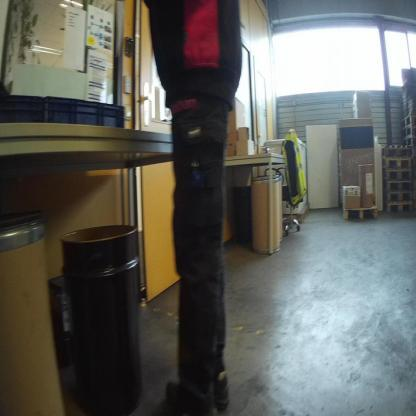pallets: (380, 143, 415, 213), (342, 206, 381, 221)
